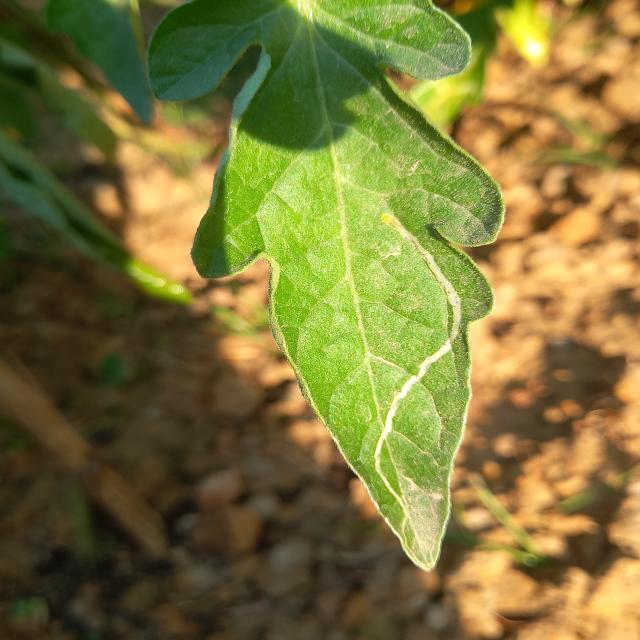Tuta absoluta: (374, 215, 465, 476)
